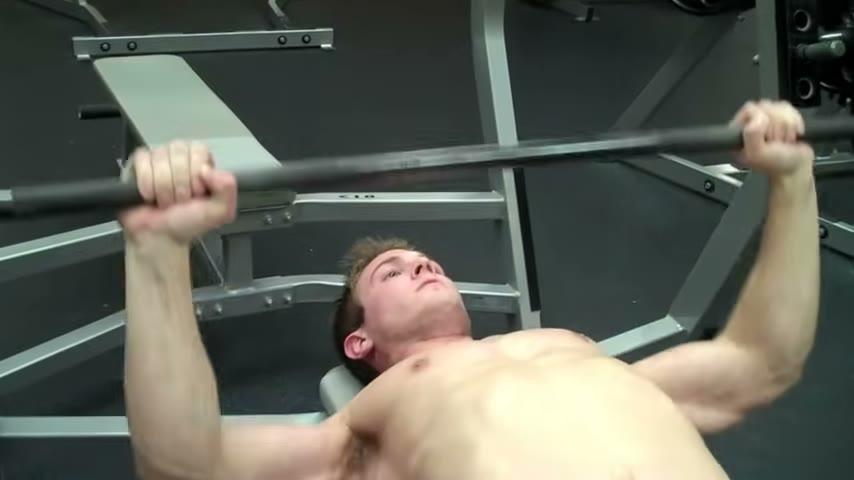barbell_plate_side: (598, 10, 832, 474), (0, 1, 141, 480)
